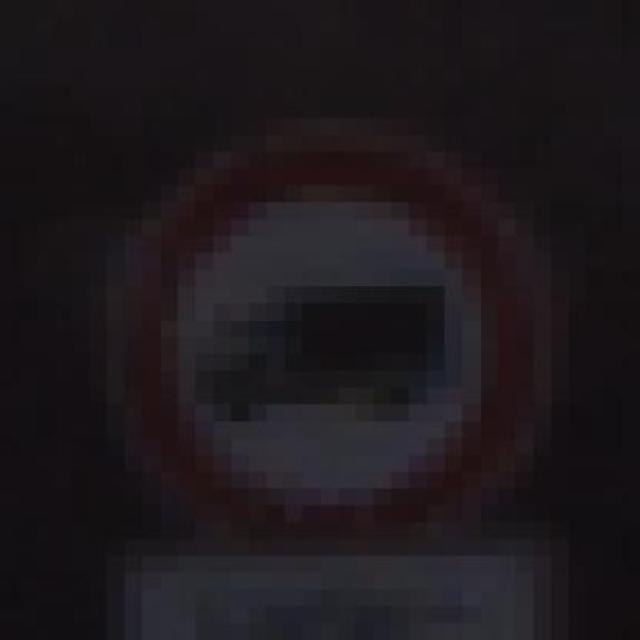Truck traffic is prohibited: (107, 101, 551, 573)
